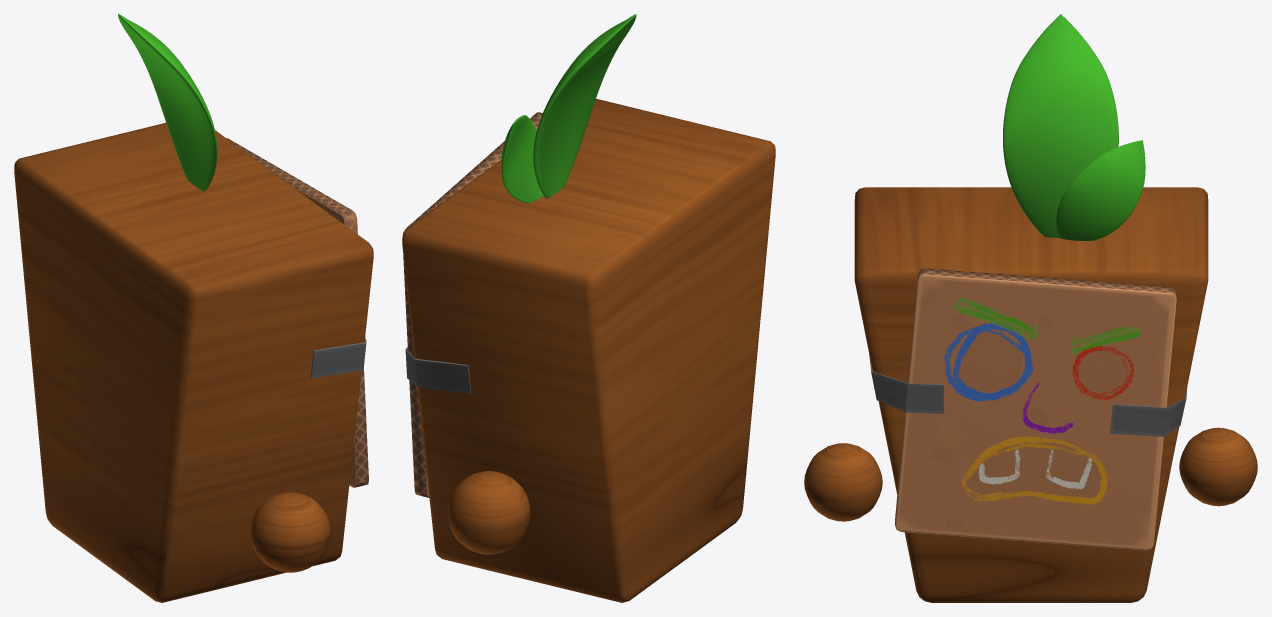
Rendered from blowpipemeeplesmoothfbx.fbx.
3 renders of one model, left to right at view 1: azimuth 30°, elevation 25°; view 2: azimuth 150°, elevation 25°; view 3: azimuth 270°, elevation 25°, orthographic. The views are drawn at different scales.
Parts seen in each view (by area): view 1: blowpipemeepl, leaf1, blowhand1, carboard face, tape1; view 2: blowpipemeepl, leaf1, blowhand2, carboard face, leaf1.003, tape2; view 3: carboard face, blowpipemeepl, leaf1, leaf1.003, blowhand2, blowhand1, tape2, tape1.
Boxes of the visible parts, box(x1,y1,x2,y2) form: blowpipemeepl: box(14, 123, 373, 602); leaf1: box(118, 14, 217, 191); blowhand1: box(250, 492, 330, 572); carboard face: box(226, 138, 368, 487); tape1: box(310, 337, 366, 378); blowpipemeepl: box(402, 98, 775, 602); leaf1: box(533, 14, 636, 198); blowhand2: box(447, 471, 530, 554); carboard face: box(403, 112, 542, 497); leaf1.003: box(501, 115, 543, 203); tape2: box(405, 347, 471, 393); carboard face: box(895, 268, 1176, 550); blowpipemeepl: box(854, 187, 1208, 602); leaf1: box(1003, 14, 1118, 237); leaf1.003: box(1056, 140, 1145, 240); blowhand2: box(1179, 427, 1257, 506); blowhand1: box(804, 443, 882, 521); tape2: box(1110, 387, 1187, 436); tape1: box(869, 355, 943, 413).
Size of the model in its own units: 160 by 405 by 321.
